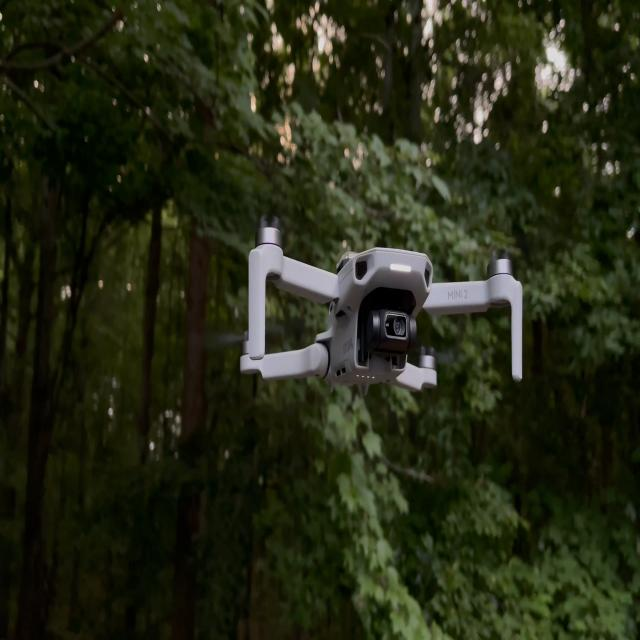Drone: (240, 237, 527, 391)
